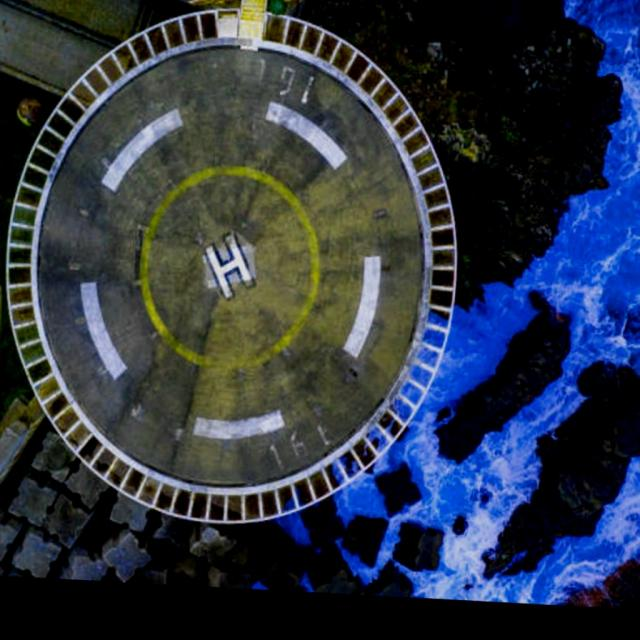helipad: (128, 154, 327, 380)
